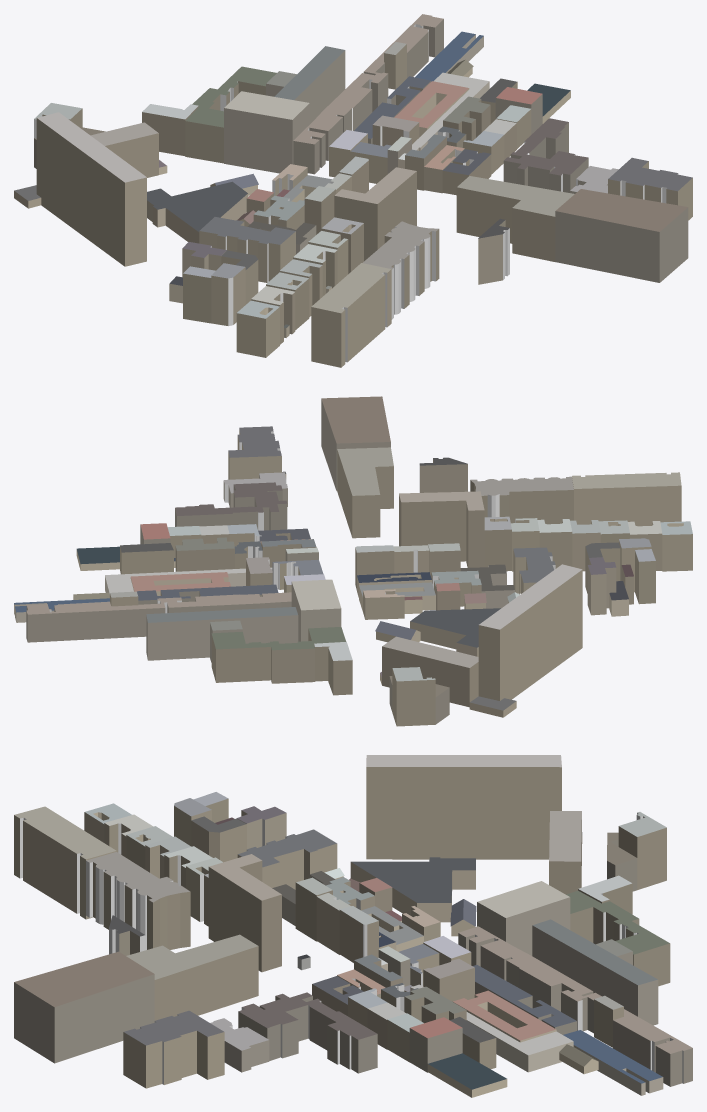
3 views of the same model, one above another, from view 1: azimuth 30°, elevation 25°; view 2: azimuth 150°, elevation 25°; view 3: azimuth 270°, elevation 25° (orthographic). The views are drawn at different scales.
Parts seen in each view (by area): view 1: tuile; view 2: tuile; view 3: tuile.
Boxes of the visible parts, <box> form: tuile: <box>14,14,692,367</box>; tuile: <box>14,396,692,726</box>; tuile: <box>14,755,692,1097</box>.
Size of the model in its own units: 269 by 42.85 by 283.
